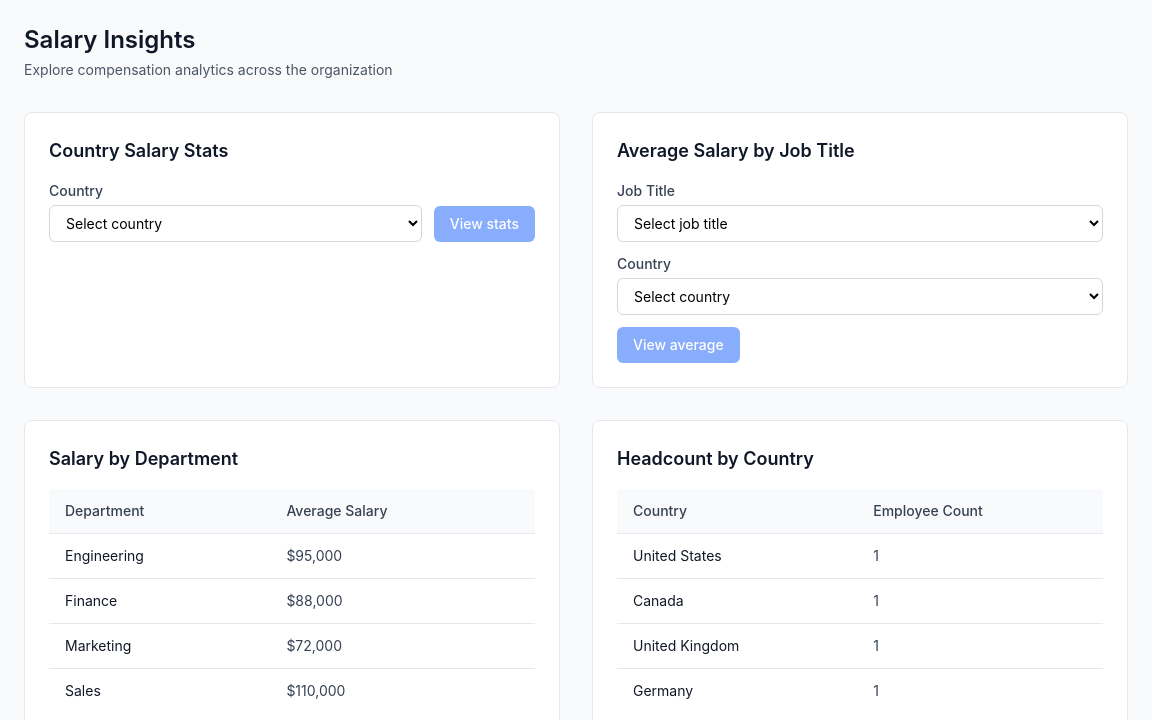
InsightsDashboard › shows empty state message for country salary stats
Expected: the cell "Engineering" is shown, [49,534,270,578]
Select "United States" in the dropdown labelled "Country" below "Country Salary Stats": (235, 224) [49,205,422,242]
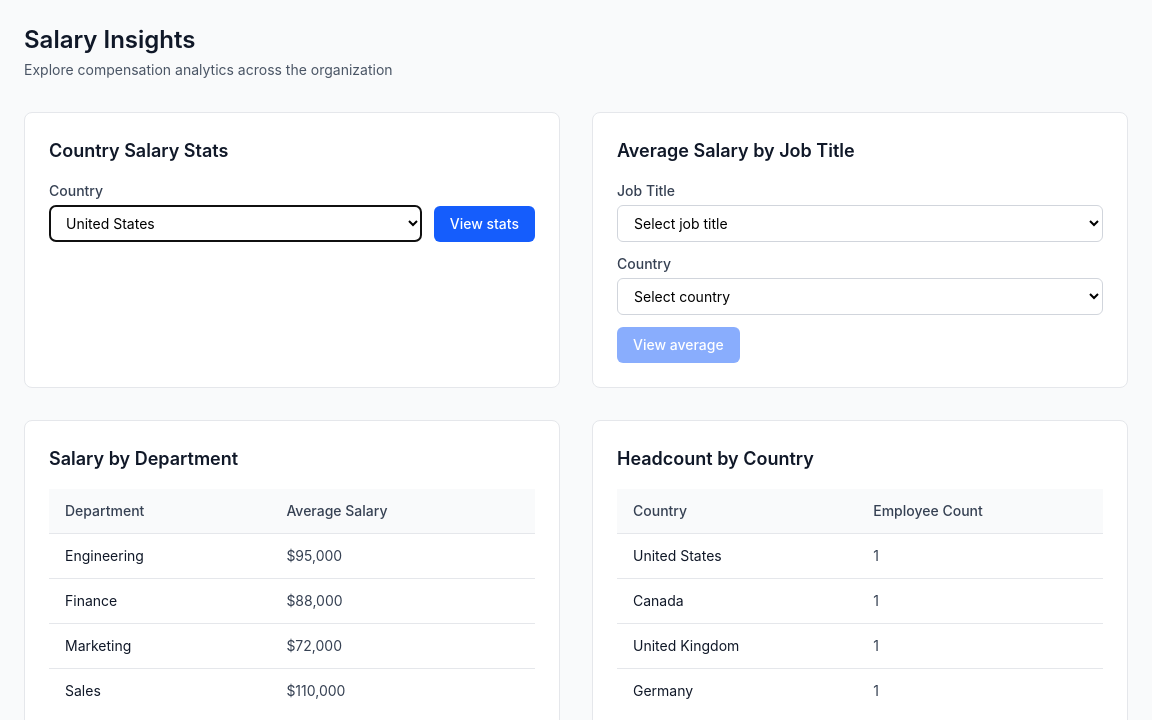
Click the button "View stats": (484, 224) [434,206,535,242]
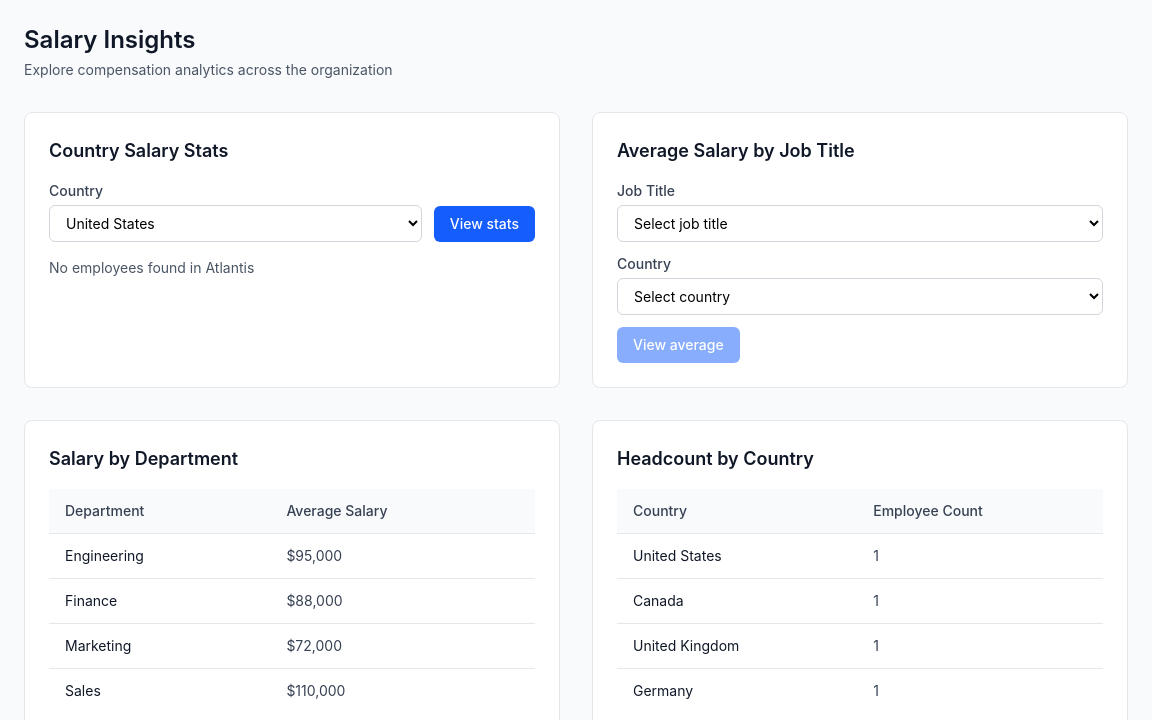
Expected: the text "No employees found in Atlantis" is shown, [49,259,254,276]
